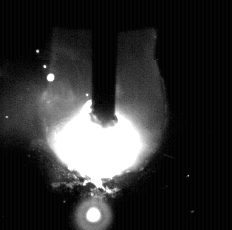arame: (92, 0, 117, 128)
poca: (42, 0, 162, 230)
